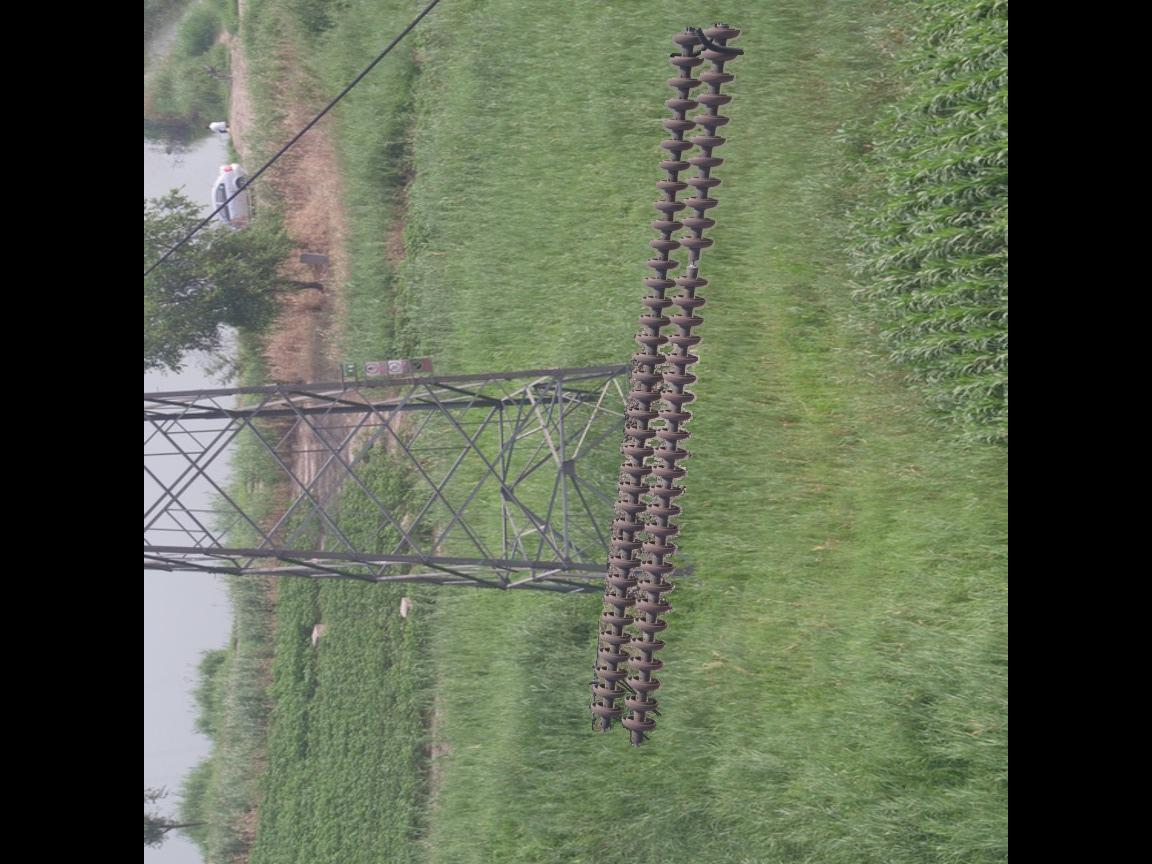insulator: (583, 16, 745, 747)
insulator_stringdrop: (672, 233, 716, 292)
